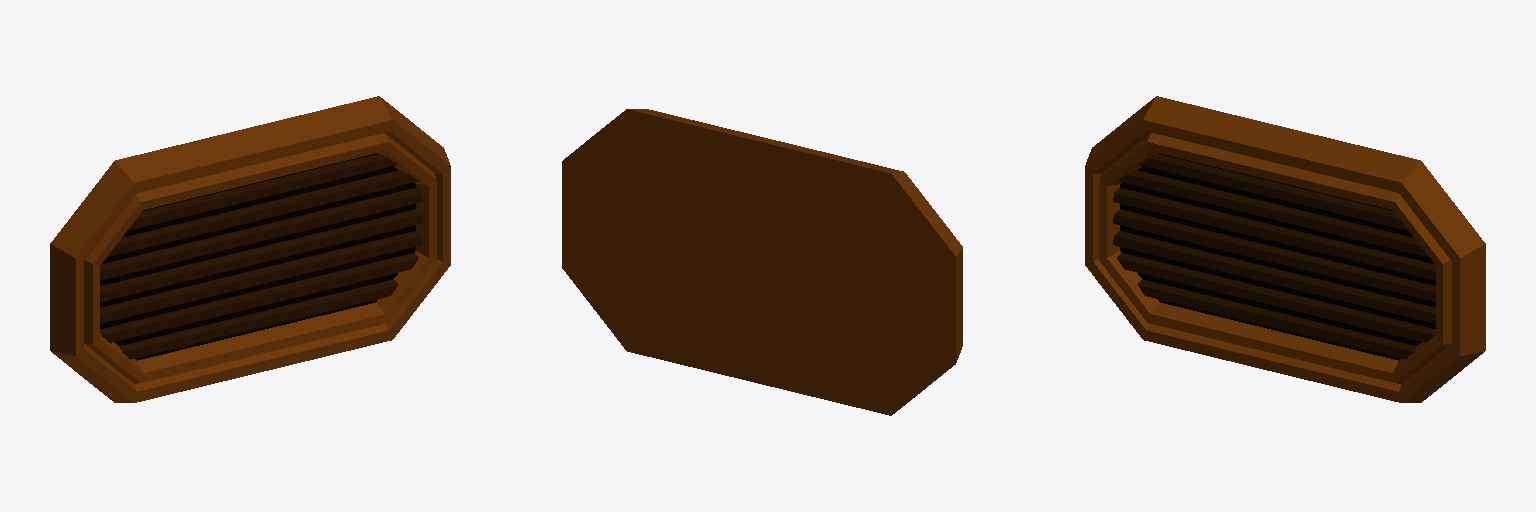
File: Details_Vent_1.obj
3 views of the same model, side by side, from view 1: azimuth 30°, elevation 25°; view 2: azimuth 150°, elevation 25°; view 3: azimuth 330°, elevation 25° (orthographic).
Visible parts, largest first — view 1: Details_Vent_1_Cube.053; view 2: Details_Vent_1_Cube.053; view 3: Details_Vent_1_Cube.053.
Part boxes in pixels (x1,y1,x2,y2): Details_Vent_1_Cube.053: (50, 96, 450, 402); Details_Vent_1_Cube.053: (562, 109, 962, 415); Details_Vent_1_Cube.053: (1085, 96, 1485, 402).
Bounding box in the file's own units: 0.5265 × 0.3099 × 0.0413.